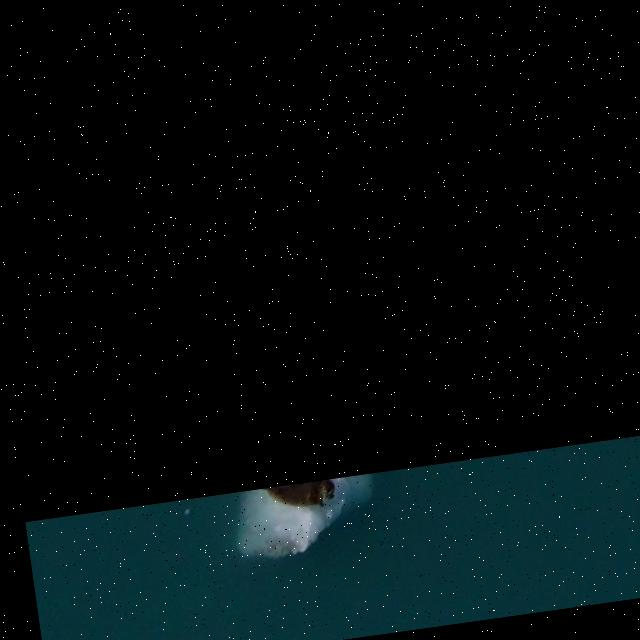seal: (264, 481, 336, 508)
